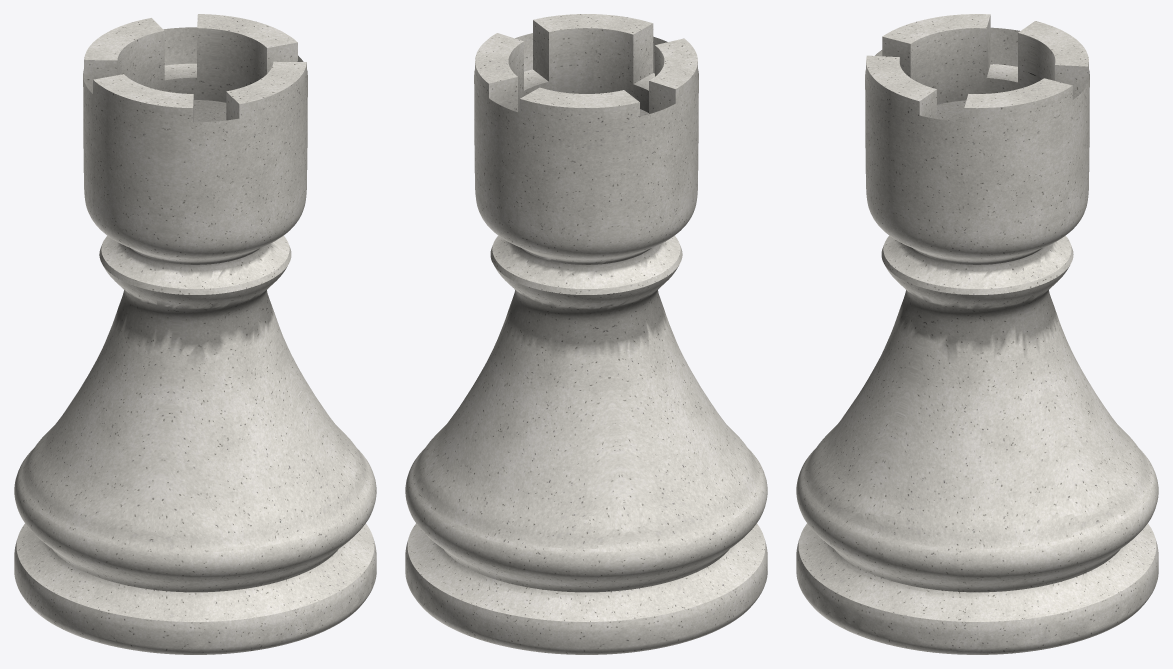
Rendered from rook-white-hd.glb.
3 views of the same model, side by side, from view 1: azimuth 30°, elevation 25°; view 2: azimuth 150°, elevation 25°; view 3: azimuth 270°, elevation 25° (orthographic).
Parts seen in each view (by area): view 1: vez_bila; view 2: vez_bila; view 3: vez_bila.
Part boxes in pixels (x1=…): vez_bila: x1=14, y1=14, x2=376, y2=654; vez_bila: x1=405, y1=14, x2=767, y2=654; vez_bila: x1=796, y1=14, x2=1158, y2=654.
Size of the model in its own units: 0.6248 by 1.01 by 0.6248.
Materials: 1 (1 with a texture image).
